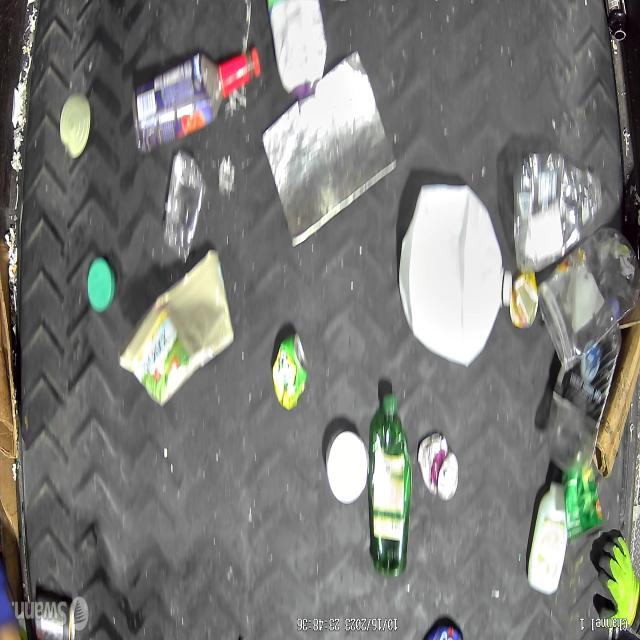can: (560, 474, 604, 546), (270, 328, 307, 412), (417, 431, 457, 498), (35, 595, 75, 640)
milk_jug: (397, 183, 505, 364)
plastic_bottle: (546, 326, 622, 478), (512, 153, 605, 269), (368, 389, 412, 577)
